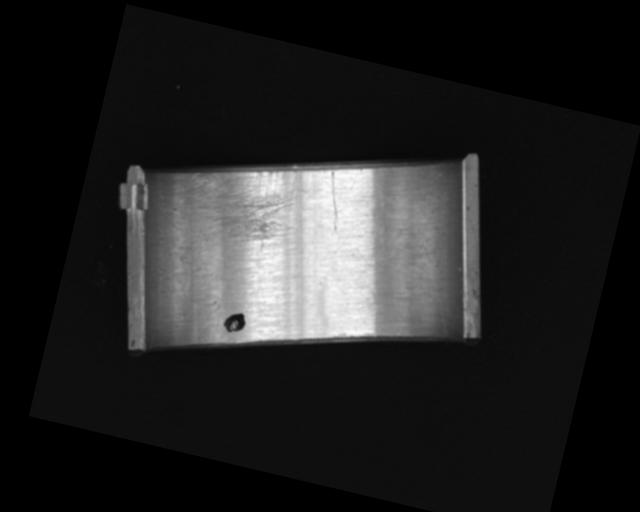blot: (221, 309, 248, 335)
nick: (403, 243, 466, 339), (318, 170, 351, 235)
scratch: (180, 145, 303, 254)
